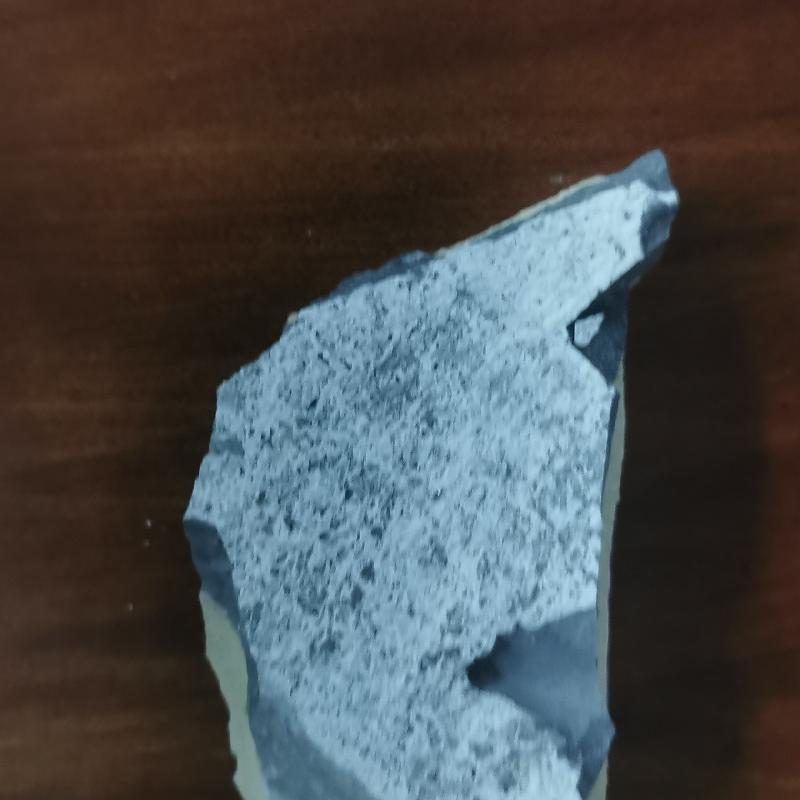tile: (178, 147, 682, 800)
